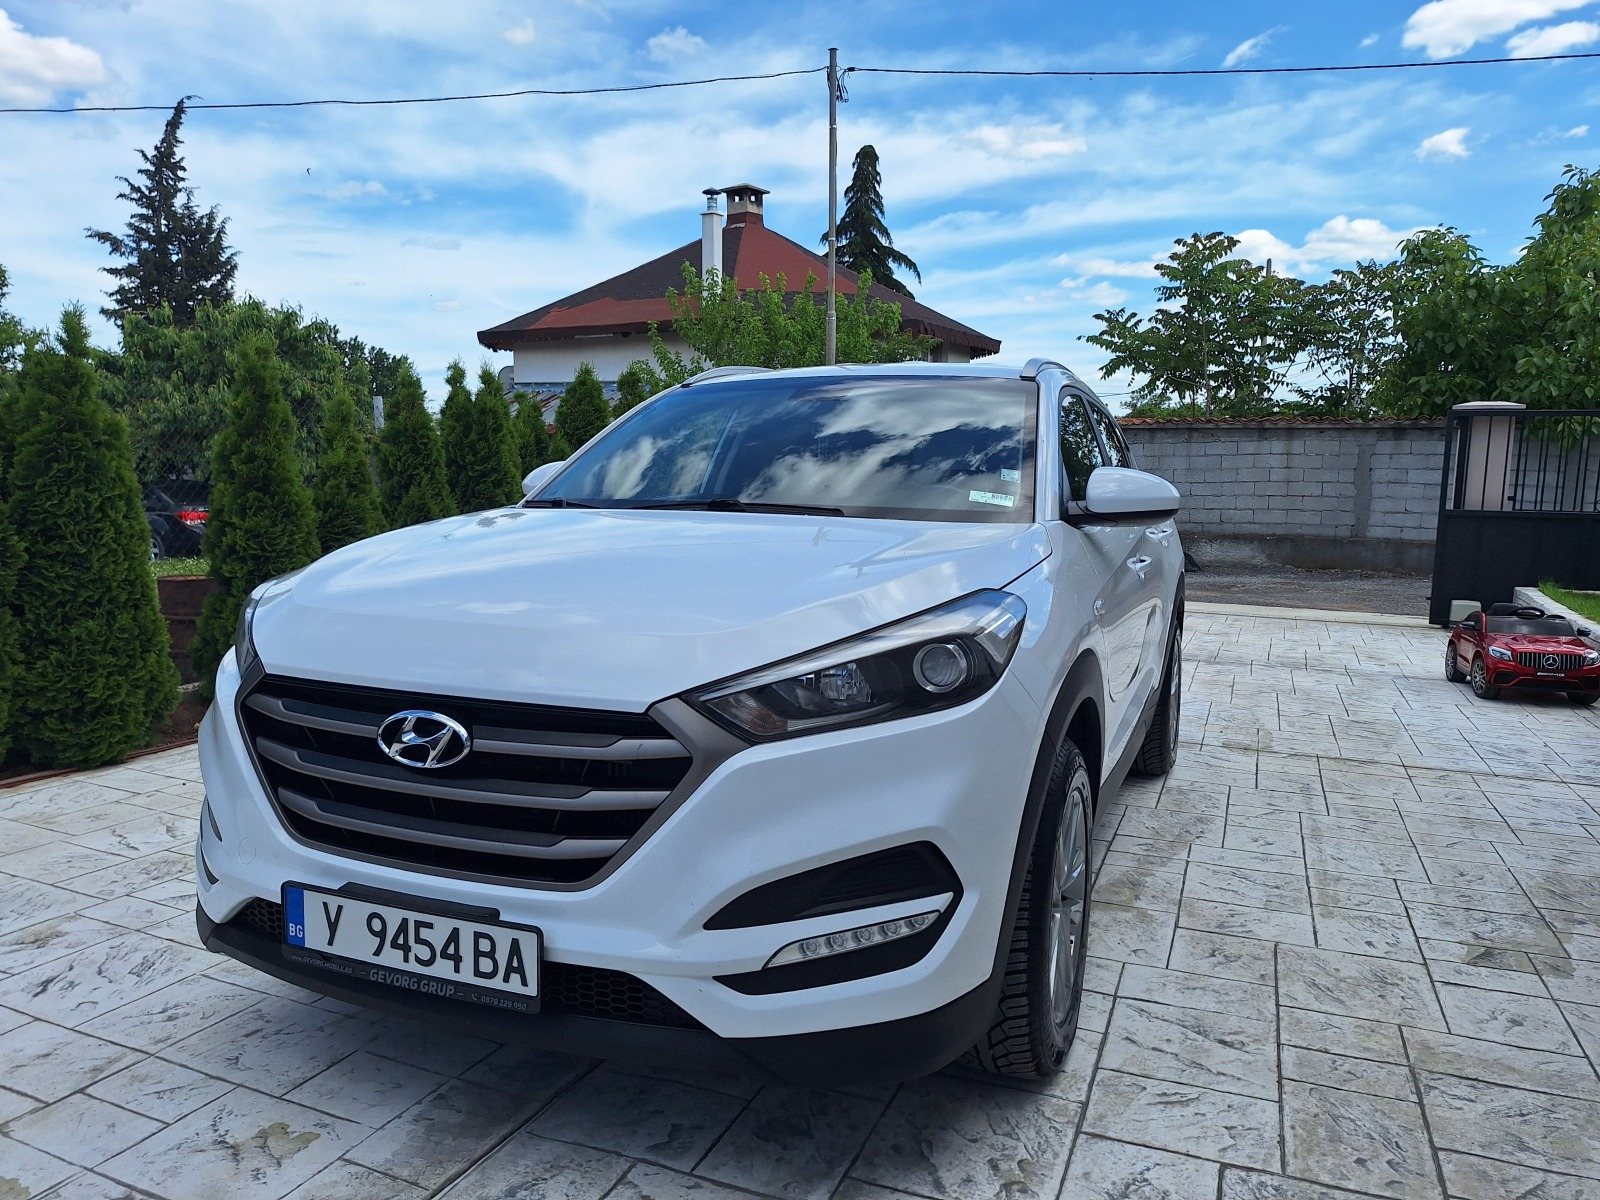registration_plate: (279, 882, 548, 1017)
